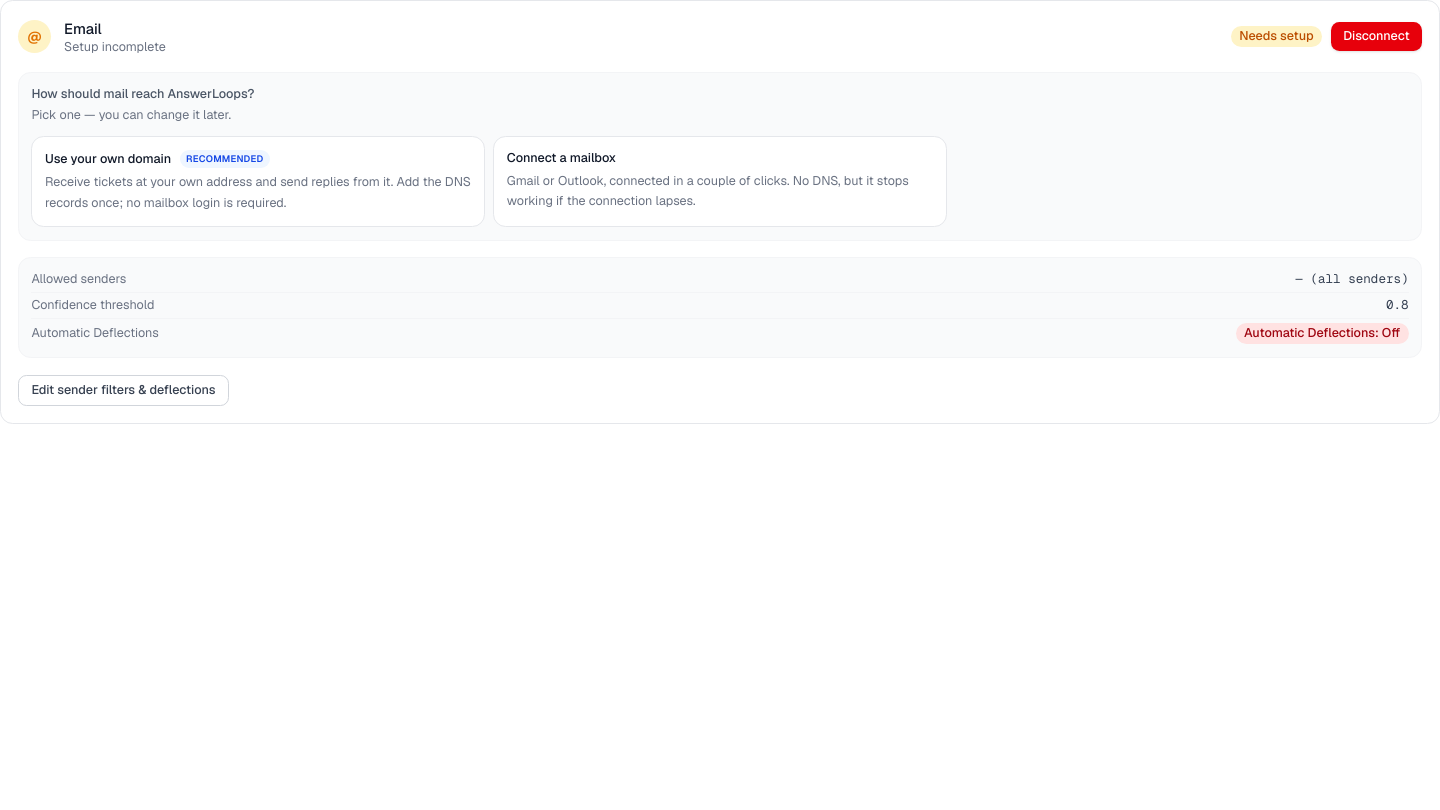
EmailIntegrationCard: custom domain verification › registers a domain and shows the DNS records once pending
Click the button "Use your own domain" at {"x": 258, "y": 182}, box [31,136,485,227]
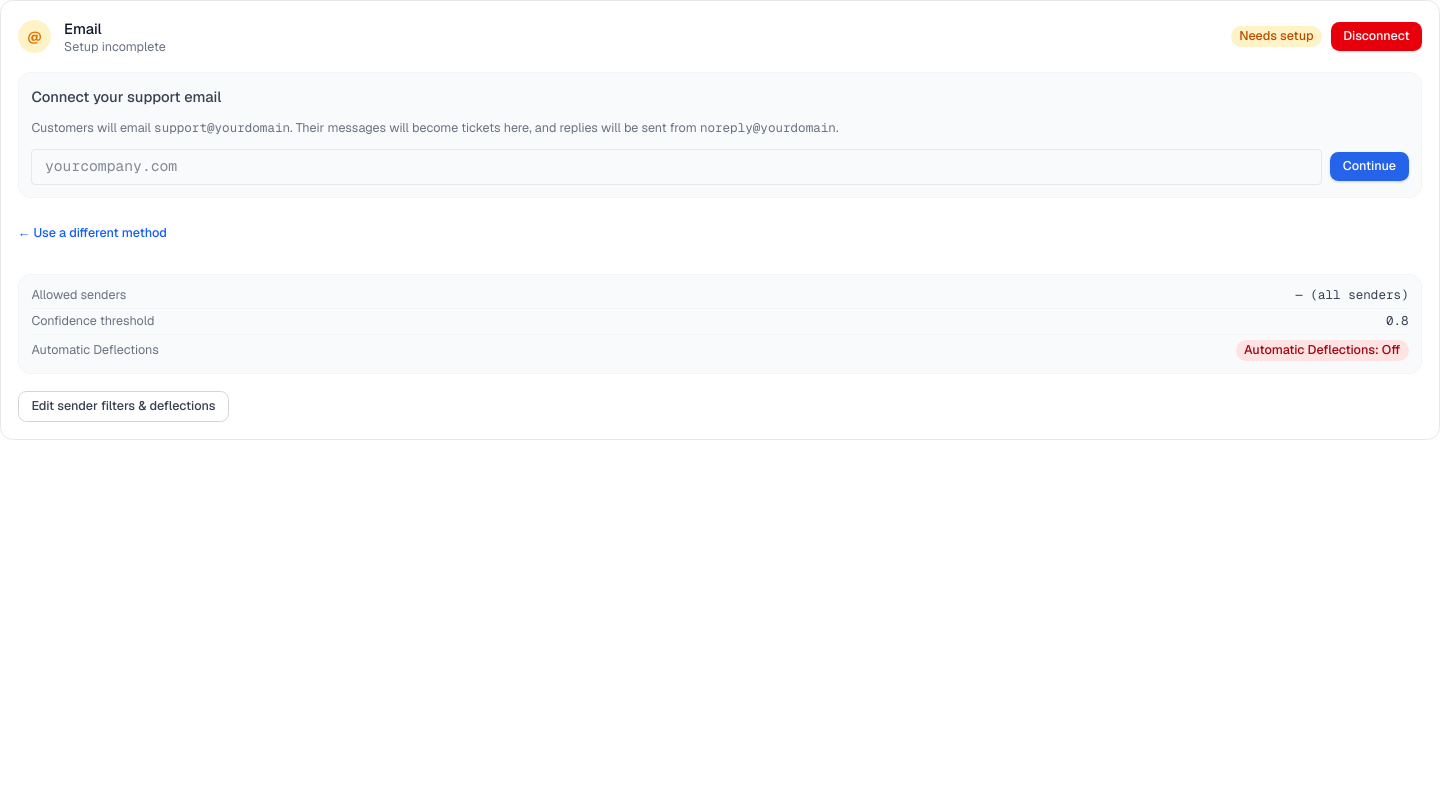
Result: the field with placeholder "yourcompany.com" is shown
Type "acme.com" into the field with placeholder "yourcompany.com" at {"x": 677, "y": 167}, box [31,149,1322,184]
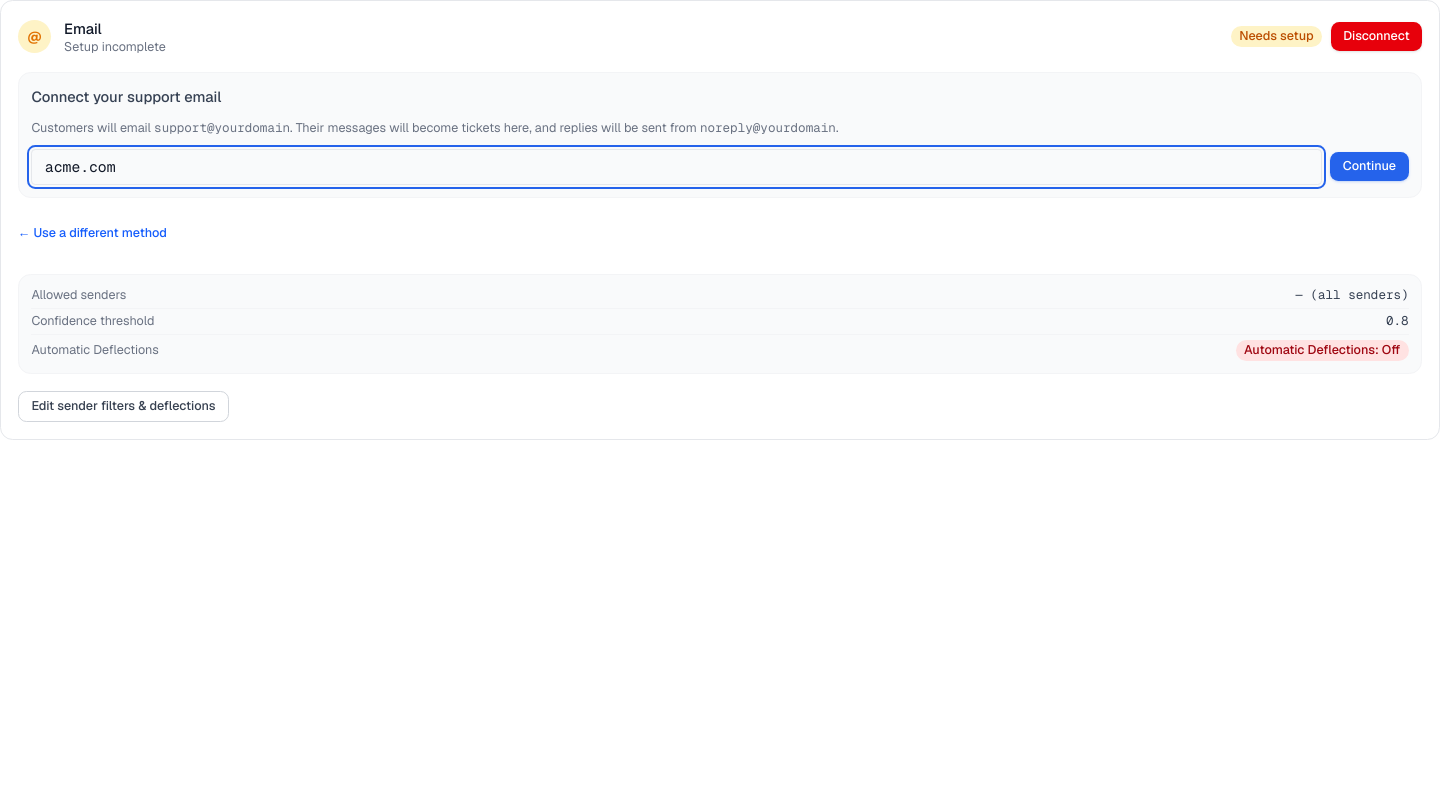
Click the button "Continue" at {"x": 1370, "y": 167}, box [1330,152,1409,181]
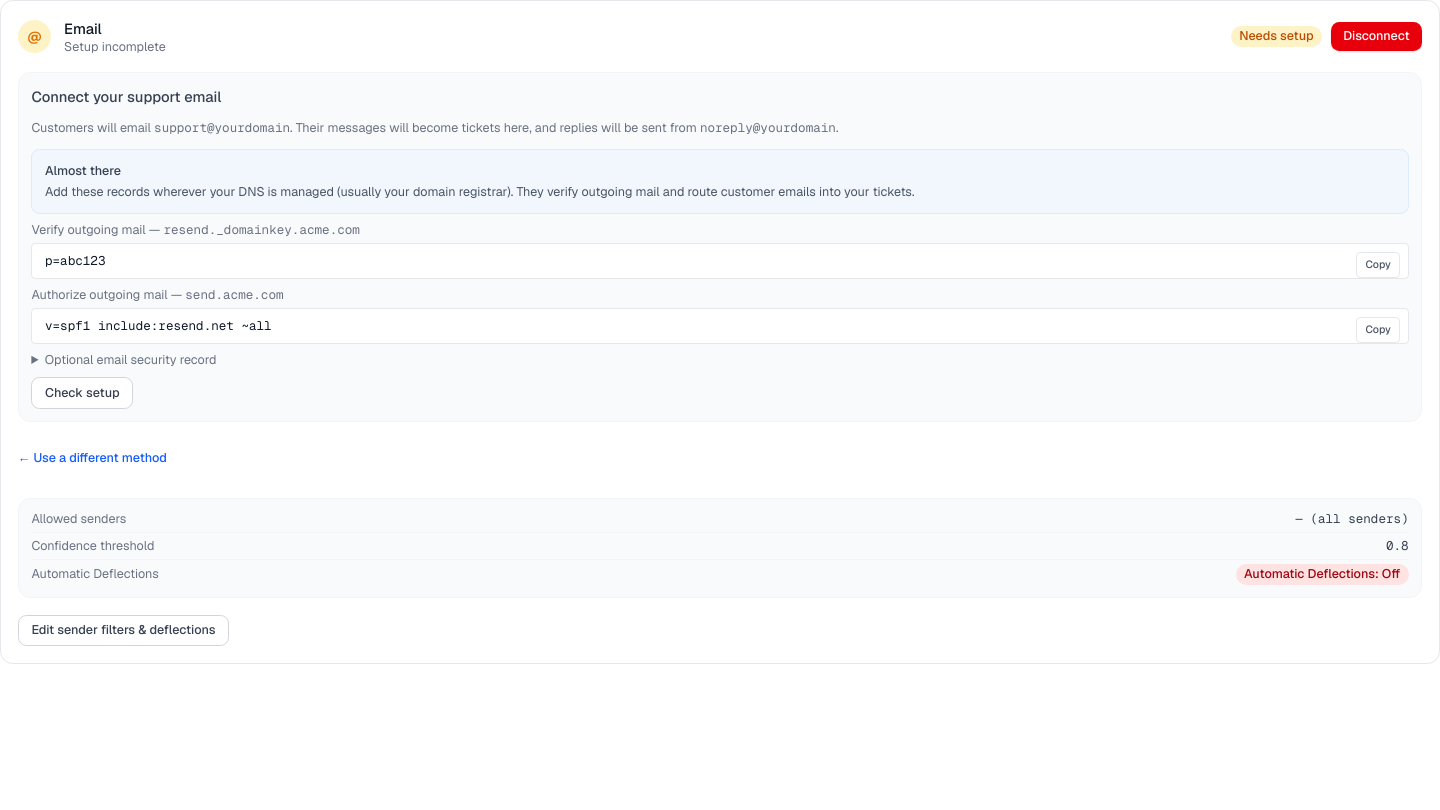
Result: the text "resend._domainkey.acme.com" is shown at [163,221,360,238]
Result: the text "p=abc123" is shown at [31,243,1409,279]
Result: the button "Check setup" is shown at [31,377,133,409]
